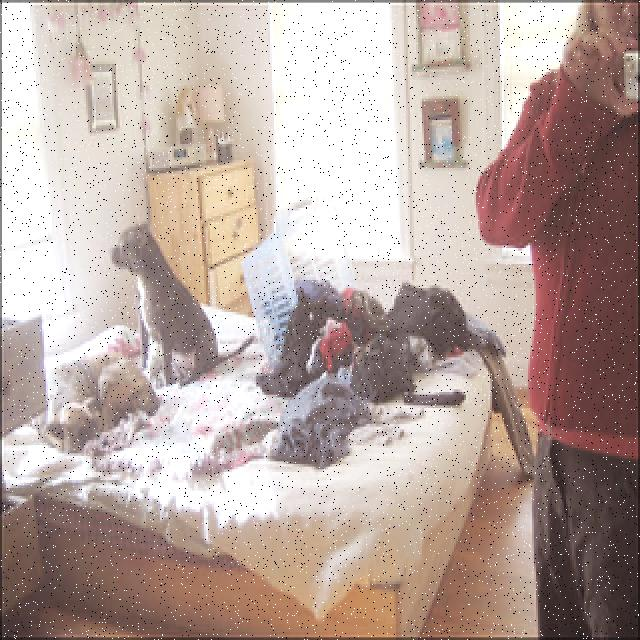bed: (26, 282, 492, 640)
